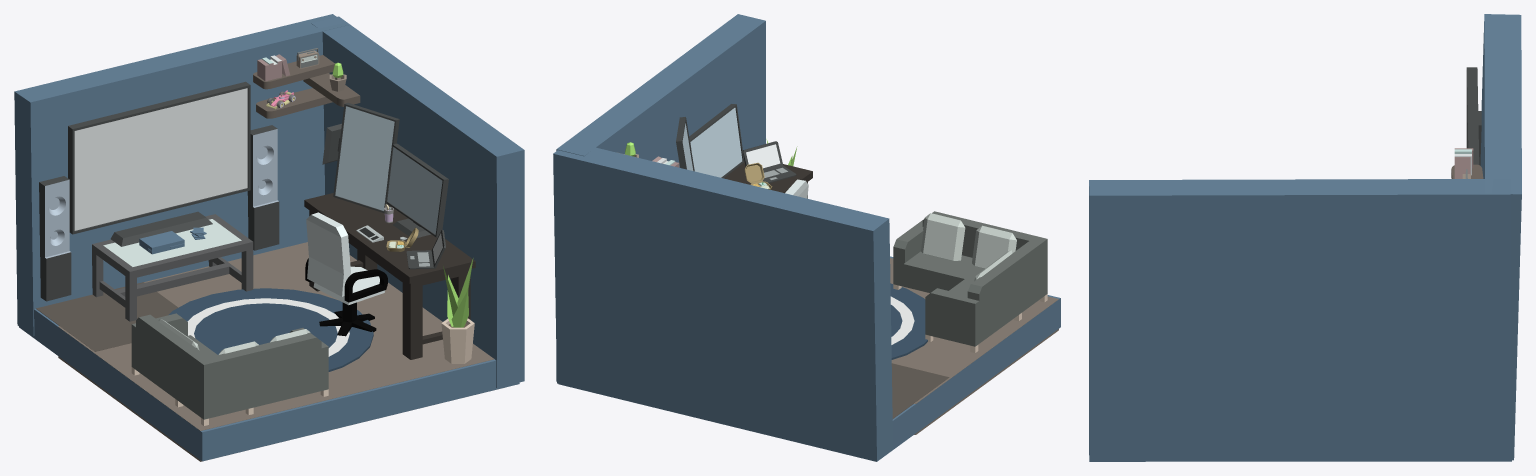
Rendered from House.gltf.
The picture shows the model from 3 angles, left to right: view 1: azimuth 30°, elevation 25°; view 2: azimuth 150°, elevation 25°; view 3: azimuth 270°, elevation 25°; orthographic projection. The views are drawn at different scales.
Visible parts, largest first — view 1: Cube__2__1, Cube__1_, televisionModern, Cube_1, floorCorner, loungeSofaCorner, rugRound, sideTable, tableGlass, computerScreen__1_, chair, floorFull (+12 smaller); view 2: Cube__2__1, Cube__1_, loungeSofaCorner, Cube_1, floorCorner, computerScreen, rugRound, pillow, floorFull, pillow__1_, laptop, sideTable (+1 smaller); view 3: Cube__1_, Cube__2__1, televisionModern, books__1_.
Boxes of the visible parts, <box> form: Cube__2__1: <box>14,14,348,336</box>; Cube__1_: <box>311,16,524,387</box>; televisionModern: <box>68,81,250,246</box>; Cube_1: <box>19,309,519,461</box>; floorCorner: <box>58,242,494,461</box>; loungeSofaCorner: <box>131,313,328,425</box>; rugRound: <box>168,288,373,371</box>; sideTable: <box>304,193,475,359</box>; tableGlass: <box>92,214,253,321</box>; computerScreen__1_: <box>322,102,399,213</box>; chair: <box>305,212,387,305</box>; floorFull: <box>36,282,178,351</box>; Cube__2__1: <box>553,141,892,460</box>; Cube__1_: <box>556,14,765,381</box>; loungeSofaCorner: <box>893,211,1047,352</box>; Cube_1: <box>558,256,1060,461</box>; floorCorner: <box>890,258,1058,434</box>; computerScreen: <box>689,104,744,178</box>; rugRound: <box>890,283,927,359</box>; pillow: <box>921,213,965,260</box>; floorFull: <box>891,363,949,418</box>; pillow__1_: <box>972,225,1016,268</box>; laptop: <box>743,141,796,183</box>; sideTable: <box>724,161,812,198</box>; Cube__1_: <box>1089,179,1511,461</box>; Cube__2__1: <box>1480,14,1521,460</box>; televisionModern: <box>1466,67,1479,164</box>; books__1_: <box>1454,148,1473,178</box>.
Size of the model in its own units: 1 by 0.7001 by 1.01.
